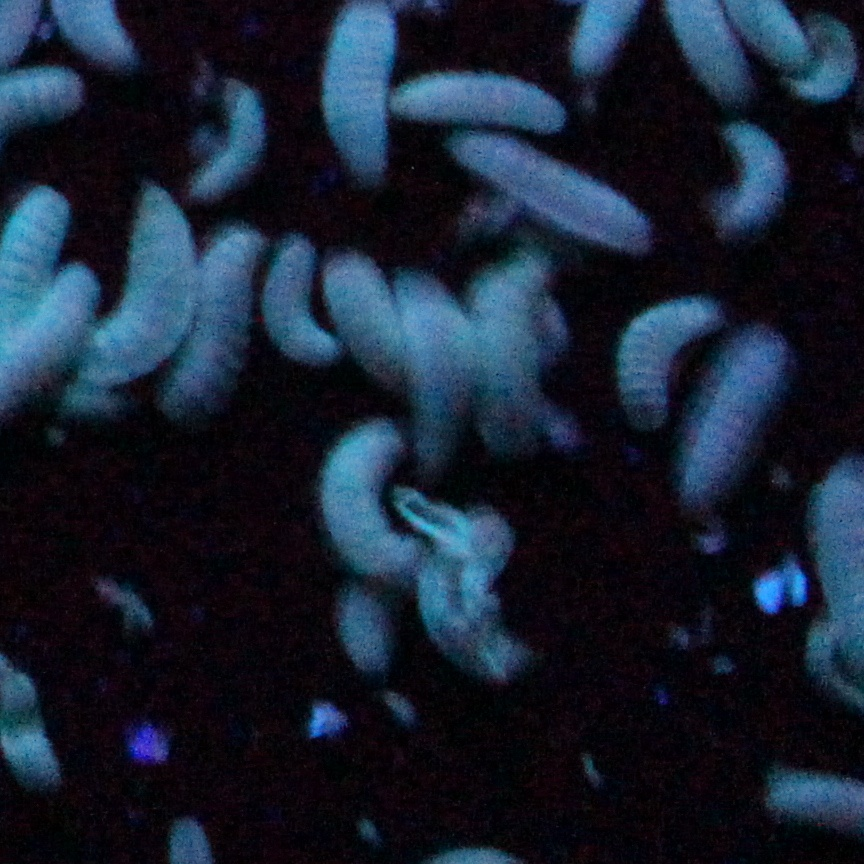larve: (442, 124, 656, 261), (82, 181, 199, 403), (309, 413, 432, 591), (607, 280, 725, 436), (385, 56, 572, 144), (259, 224, 347, 381), (707, 114, 792, 244), (190, 75, 269, 195)
